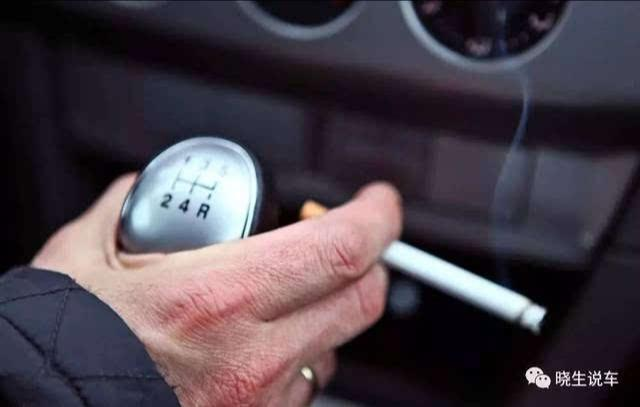Cigarette: (300, 200, 546, 330)
